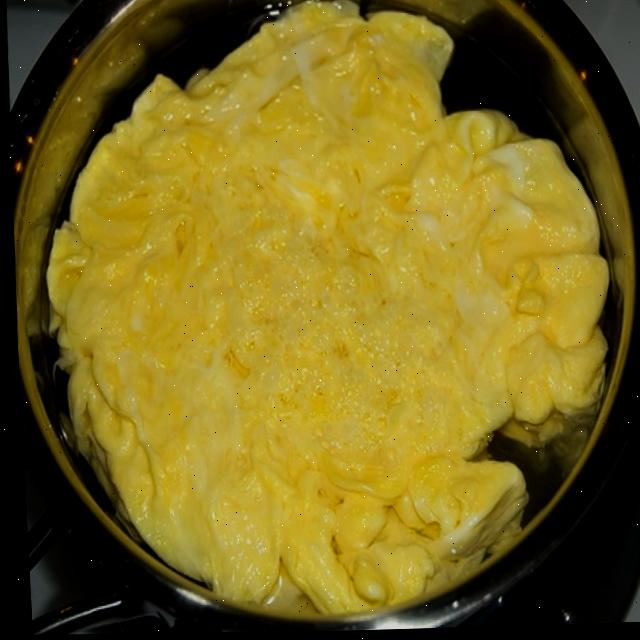鸡蛋料理: (8, 0, 640, 622)
